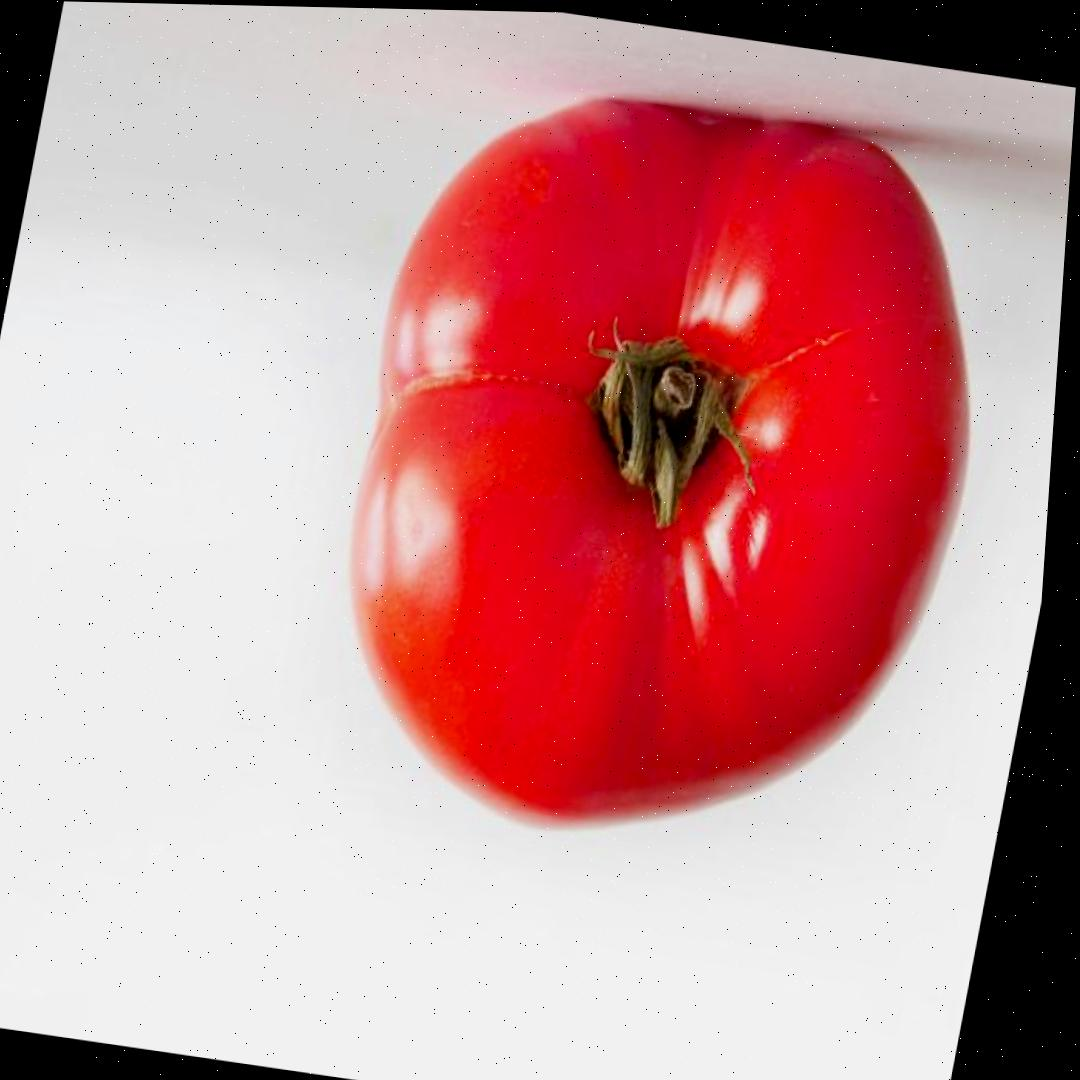matang: (290, 64, 1033, 881)
